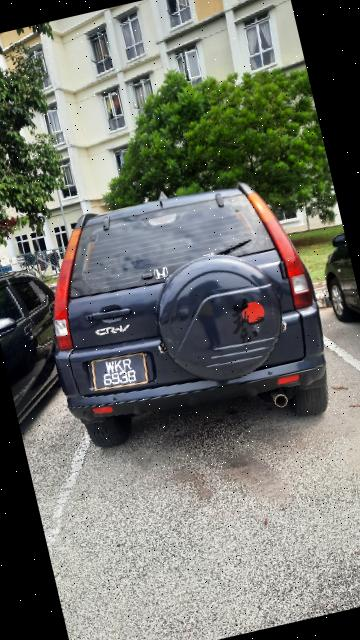License_Plate: (87, 345, 155, 401)
car: (23, 163, 347, 478)
